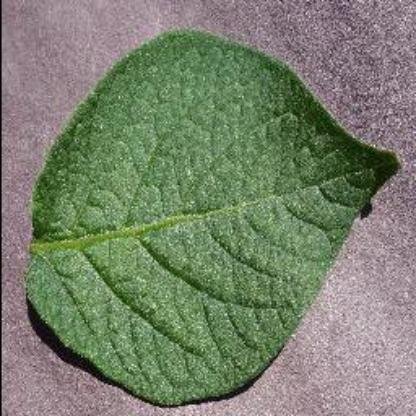Healthy-plant: (25, 28, 399, 406)
